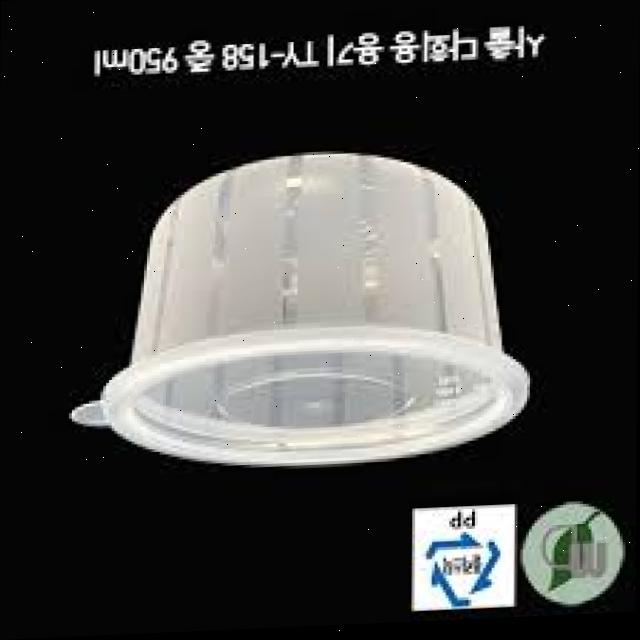disposable: (69, 130, 542, 491)
